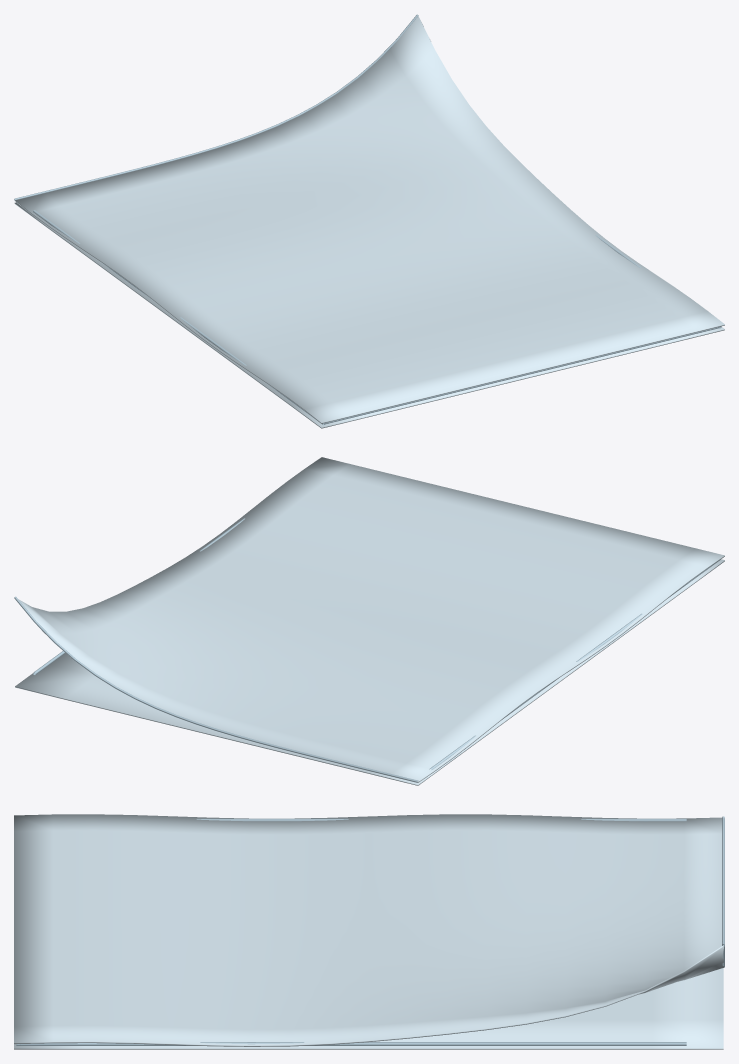
Rendered from mylar-sleeve.glb.
3 views of the same model, one above another, from view 1: azimuth 30°, elevation 25°; view 2: azimuth 150°, elevation 25°; view 3: azimuth 270°, elevation 25° (orthographic). The views are drawn at different scales.
Parts seen in each view (by area): view 1: mylar-sleeve; view 2: mylar-sleeve; view 3: mylar-sleeve.
Part boxes in pixels (x1,y1,x2,y2): mylar-sleeve: (14,14,724,428); mylar-sleeve: (14,457,724,785); mylar-sleeve: (14,814,724,1049).
Bounding box in the file's own units: 0.2204 × 0.0475 × 0.2906.
